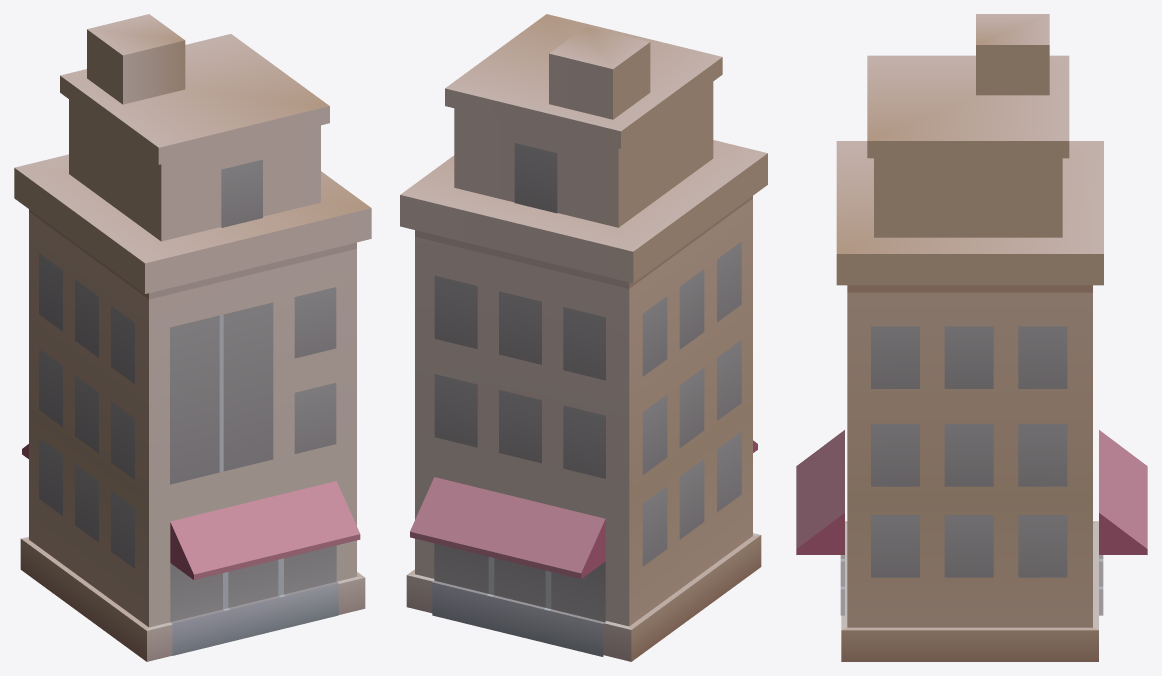
File: build_b.glb
3 renders of one model, left to right at view 1: azimuth 30°, elevation 25°; view 2: azimuth 150°, elevation 25°; view 3: azimuth 270°, elevation 25°, orthographic. The views are drawn at different scales.
Visible parts, largest first — view 1: build_b; view 2: build_b; view 3: build_b.
Boxes of the visible parts, bbox=[...] form: build_b: bbox=[14, 14, 371, 661]; build_b: bbox=[400, 14, 767, 661]; build_b: bbox=[796, 14, 1147, 661].
Size of the model in its own units: 1.09 by 2.52 by 1.43.
